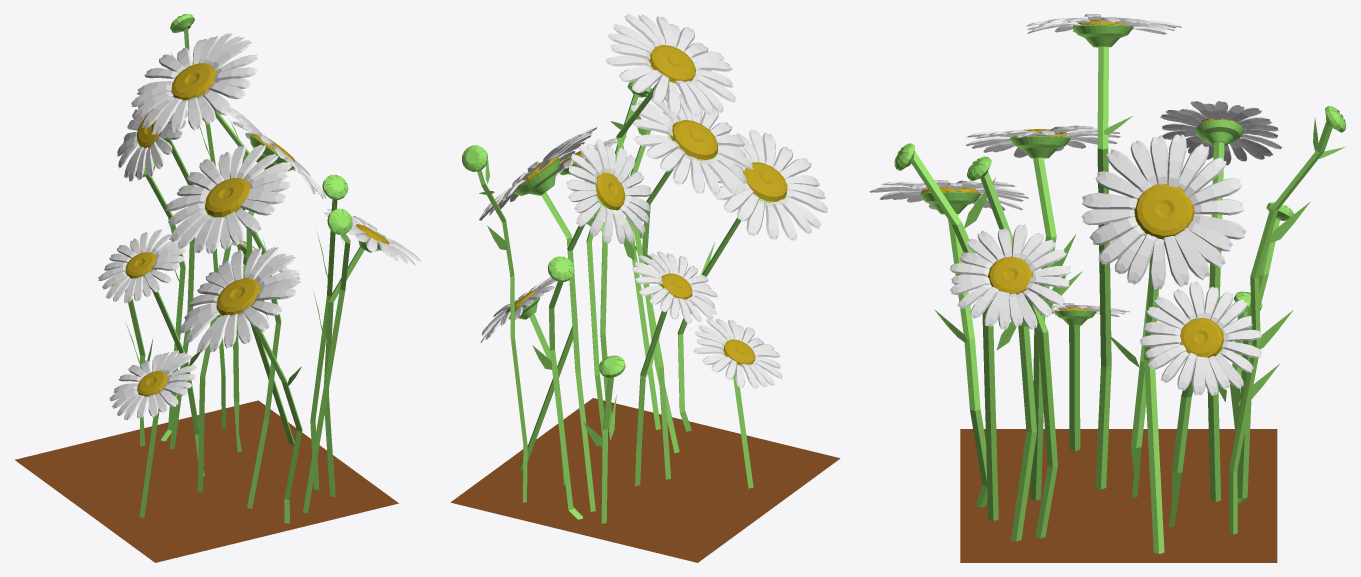
The model's file is daisy.fbx.
The picture shows the model from 3 angles, left to right: view 1: azimuth 30°, elevation 25°; view 2: azimuth 150°, elevation 25°; view 3: azimuth 270°, elevation 25°; orthographic projection. The views are drawn at different scales.
Parts seen in each view (by area): view 1: Cylinder.133; view 2: Cylinder.133; view 3: Cylinder.133.
Part boxes in pixels (<box>): Cylinder.133: <box>15,14,420,562</box>; Cylinder.133: <box>450,14,840,562</box>; Cylinder.133: <box>869,14,1345,562</box>.
Bounding box in the file's own units: 285 × 445 × 376.
